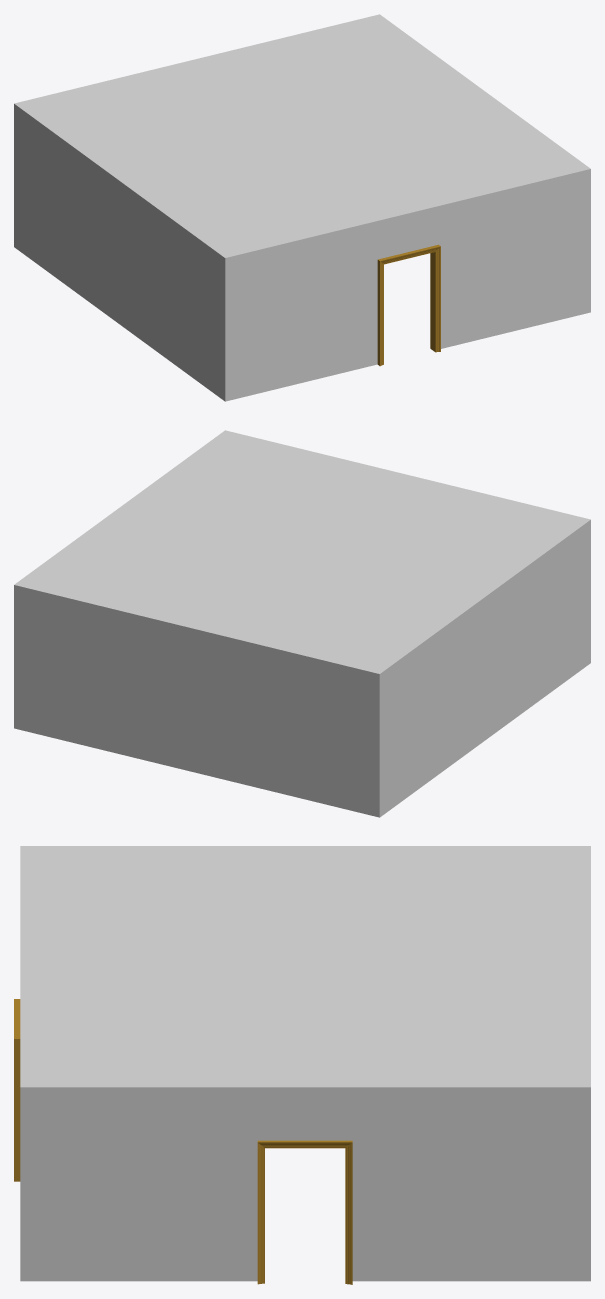
File: right_angle_right.fbx
3 renders of one model, top to bottom at view 1: azimuth 30°, elevation 25°; view 2: azimuth 150°, elevation 25°; view 3: azimuth 270°, elevation 25°, orthographic. The views are drawn at different scales.
Parts seen in each view (by area): view 1: Room, Ceiling, Cube.010; view 2: Room, Ceiling; view 3: Ceiling, Room, Cube.001, Cube.010.
Part boxes in pixels (left/top/right/bottom): Room: left=14, top=14, right=590, bottom=401; Ceiling: left=15, top=15, right=590, bottom=257; Cube.010: left=377, top=244, right=440, bottom=366; Room: left=14, top=430, right=590, bottom=817; Ceiling: left=14, top=430, right=590, bottom=673; Ceiling: left=20, top=846, right=590, bottom=1087; Room: left=20, top=846, right=590, bottom=1281; Cube.001: left=257, top=1140, right=352, bottom=1284; Cube.010: left=14, top=999, right=20, bottom=1181.
Bounding box in the file's own units: 806 × 303 × 809.
